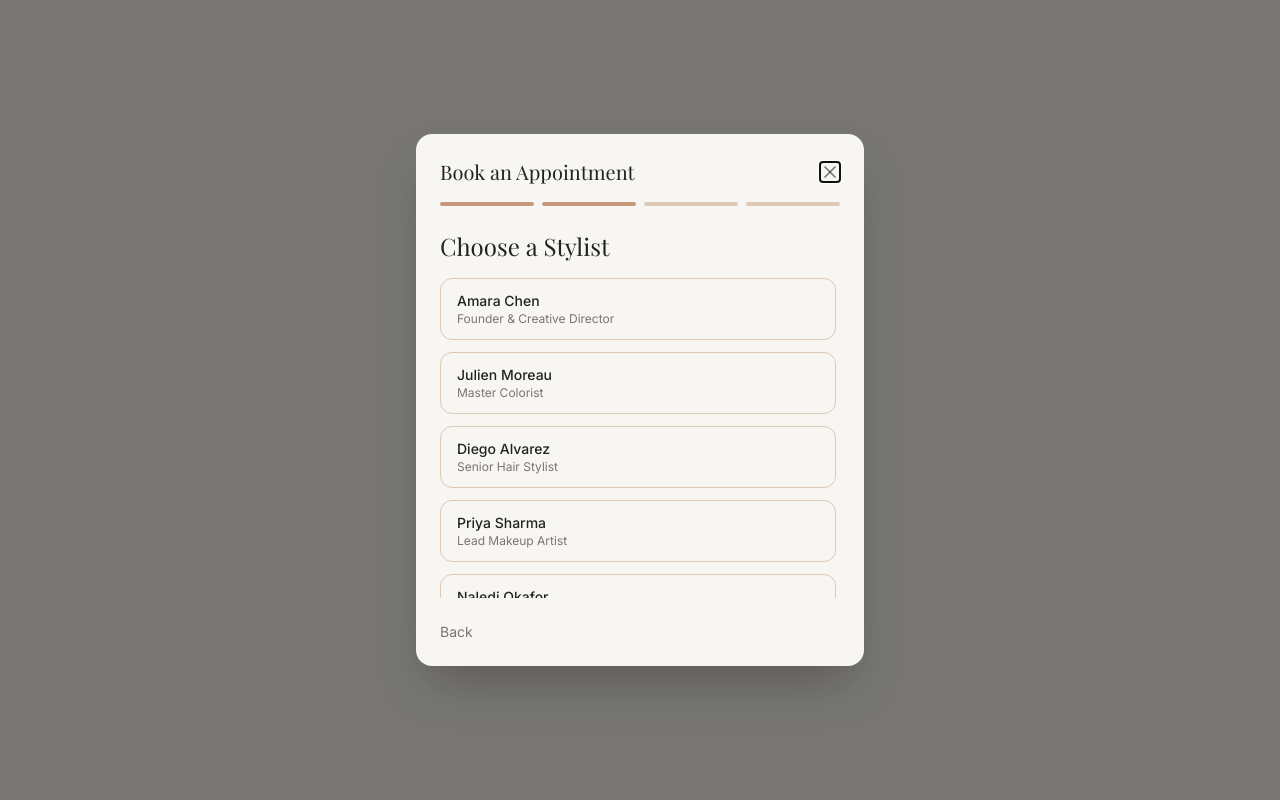
Scenario: BookingModal › the Back button returns to the previous step
Expected: the heading "Choose a Stylist" is shown, [440,230,610,262]
Click the button "Back" at (456, 632), box [440,622,473,642]
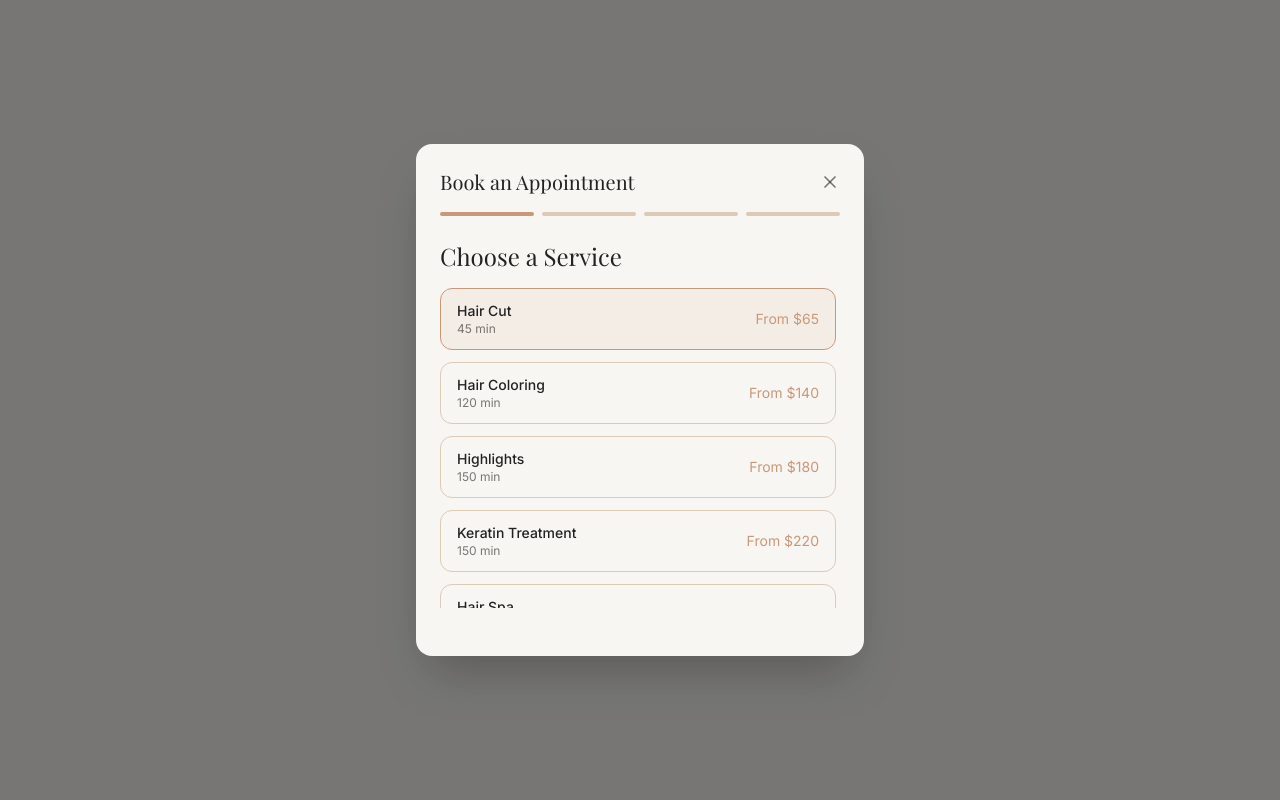
Expected: the heading "Choose a Service" is shown, [440,240,622,272]
